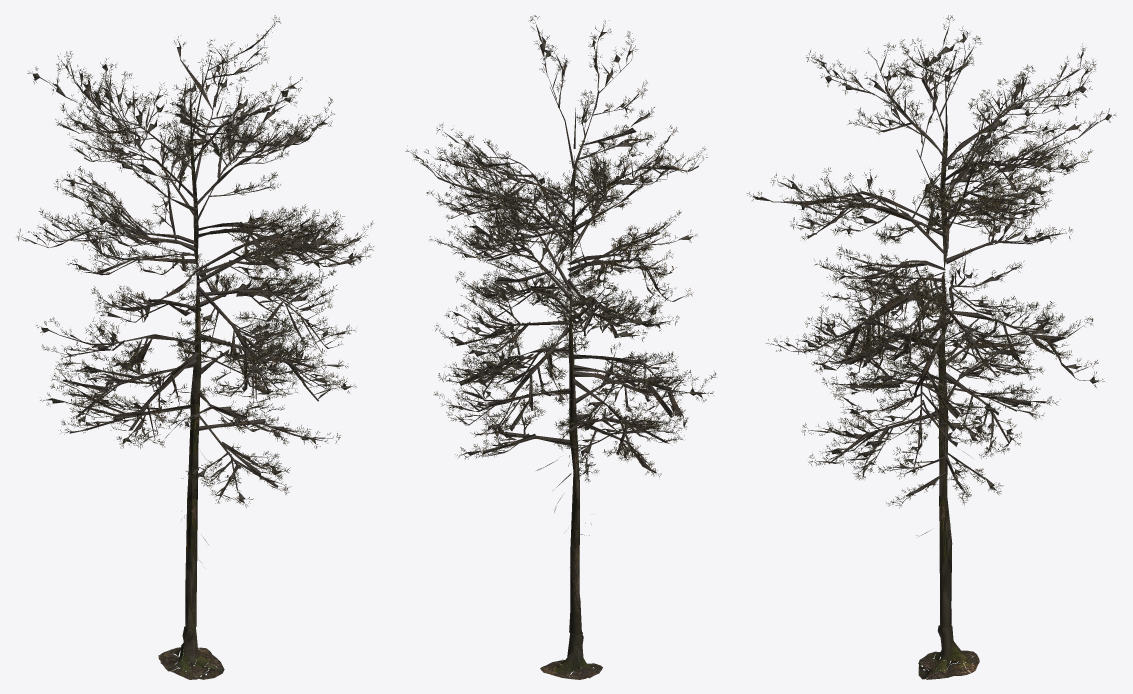
The model's file is pine.glb.
3 renders of one model, left to right at view 1: azimuth 30°, elevation 25°; view 2: azimuth 150°, elevation 25°; view 3: azimuth 270°, elevation 25°, orthographic. The views are drawn at different scales.
Visible parts, largest first — view 1: pine_tree_01_b_LOD0; view 2: pine_tree_01_b_LOD0; view 3: pine_tree_01_b_LOD0.
Part boxes in pixels (x1,y1,x2,y2): pine_tree_01_b_LOD0: (16, 15, 373, 679); pine_tree_01_b_LOD0: (405, 15, 716, 679); pine_tree_01_b_LOD0: (746, 15, 1116, 679).
Size of the model in its own units: 7.16 by 14.83 by 7.56.
Materials: 4 (4 with a texture image).
